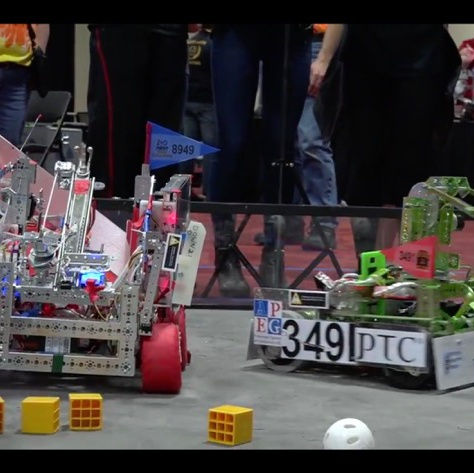robot: (0, 118, 218, 398), (241, 172, 474, 394)
